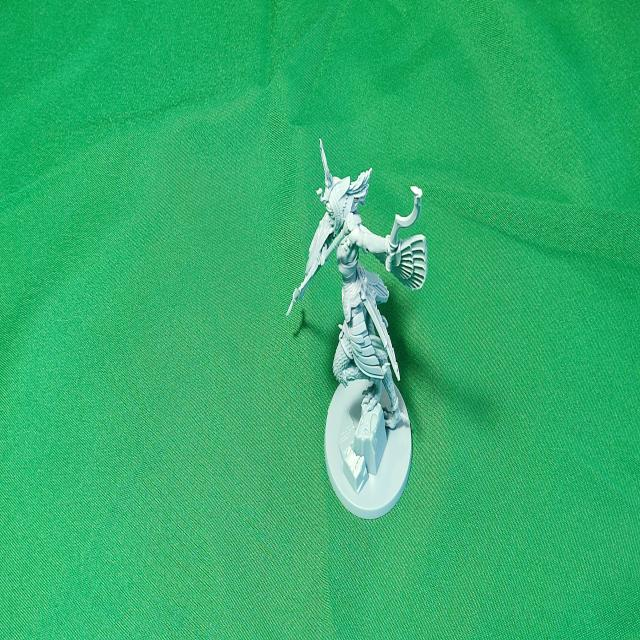isis: (279, 0, 436, 640)
